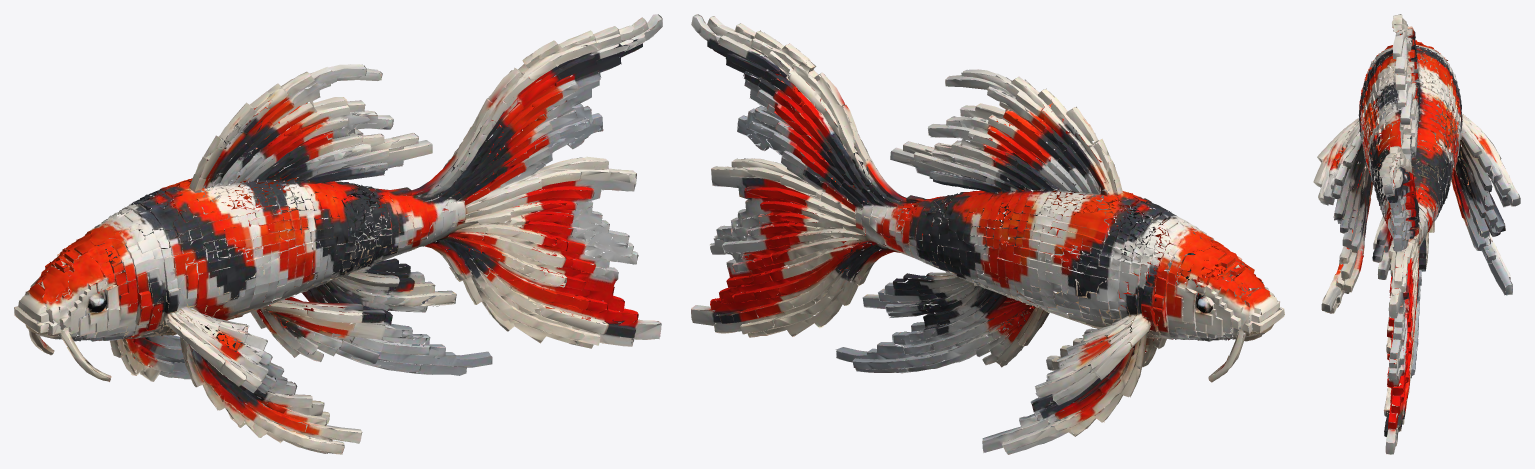
File: butterfly_koi_a.glb
3 views of the same model, side by side, from view 1: azimuth 30°, elevation 25°; view 2: azimuth 150°, elevation 25°; view 3: azimuth 270°, elevation 25° (orthographic). The views are drawn at different scales.
Visible parts, largest first — view 1: node_0; view 2: node_0; view 3: node_0.
Boxes of the visible parts, x1=… form: node_0: x1=14, y1=14, x2=662, y2=454; node_0: x1=691, y1=14, x2=1284, y2=454; node_0: x1=1313, y1=14, x2=1520, y2=454.
Bounding box in the file's own units: 1.07 × 0.5686 × 0.3662.
Materials: 1 (1 with a texture image).
